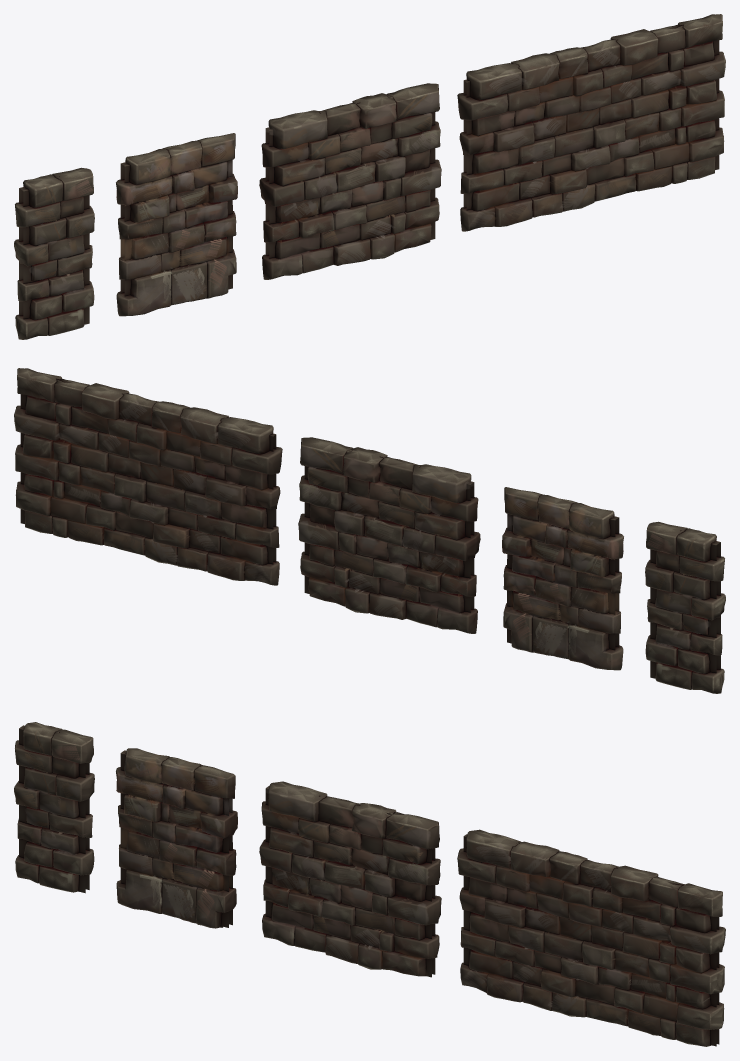
File: WallTilesDouble.fbx
The picture shows the model from 3 angles, top to bottom: view 1: azimuth 30°, elevation 25°; view 2: azimuth 150°, elevation 25°; view 3: azimuth 330°, elevation 25°; orthographic projection.
Parts seen in each view (by area): view 1: Wall5, Wall3, Wall2, Wall1; view 2: Wall5, Wall3, Wall2, Wall1; view 3: Wall5, Wall3, Wall2, Wall1.
Part boxes in pixels (box(x1,y1,x2,y2)): Wall5: box(457, 14, 725, 231); Wall3: box(259, 83, 441, 279); Wall2: box(116, 133, 237, 316); Wall1: box(14, 167, 94, 339); Wall5: box(14, 368, 282, 585); Wall3: box(298, 437, 480, 633); Wall2: box(502, 487, 623, 670); Wall1: box(645, 521, 725, 693); Wall5: box(457, 829, 725, 1046); Wall3: box(259, 781, 441, 977); Wall2: box(116, 748, 237, 928); Wall1: box(14, 722, 94, 893).
Size of the model in its own units: 1471 by 316 by 59.25.
